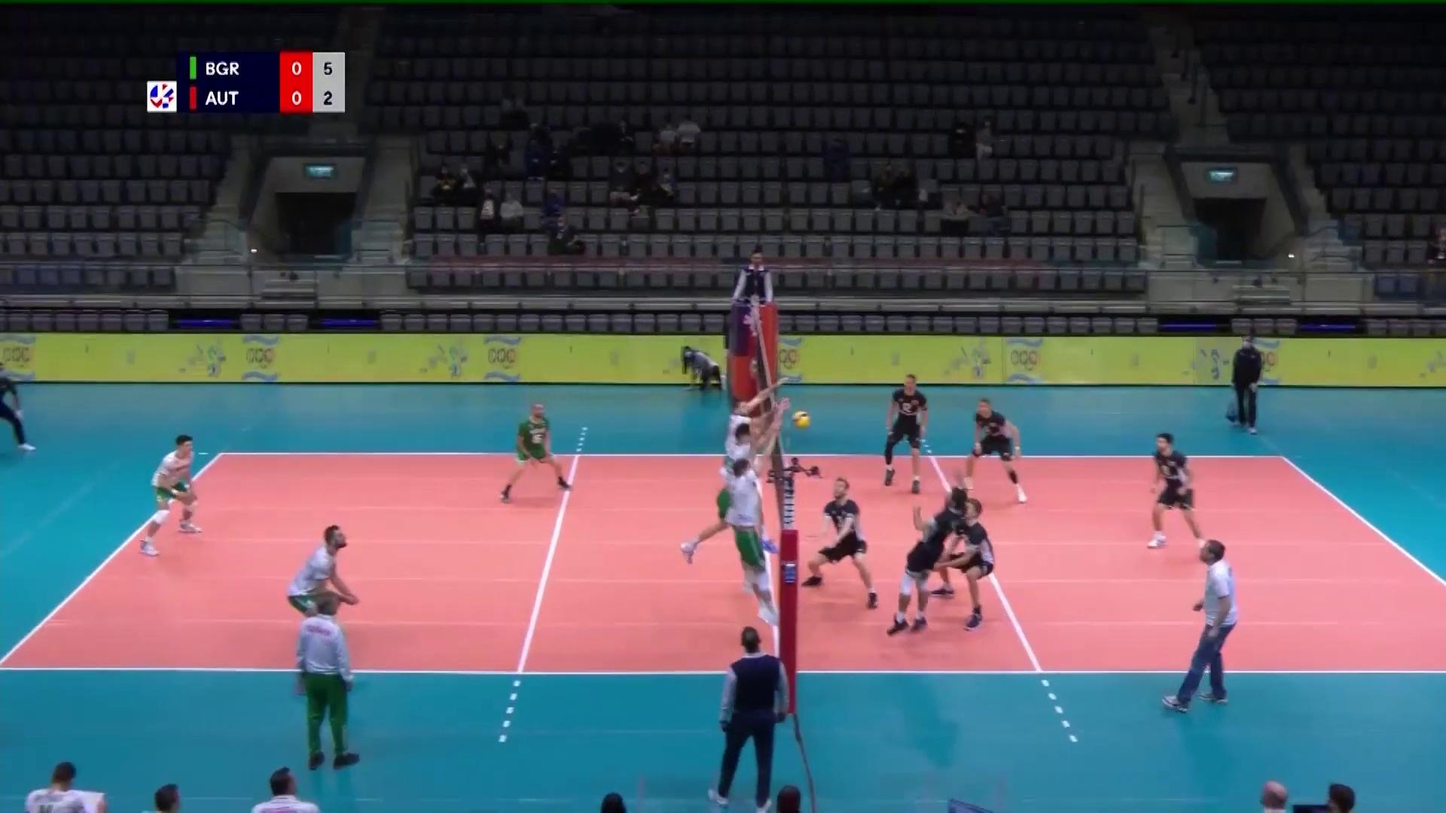ball: (792, 410, 811, 429)
